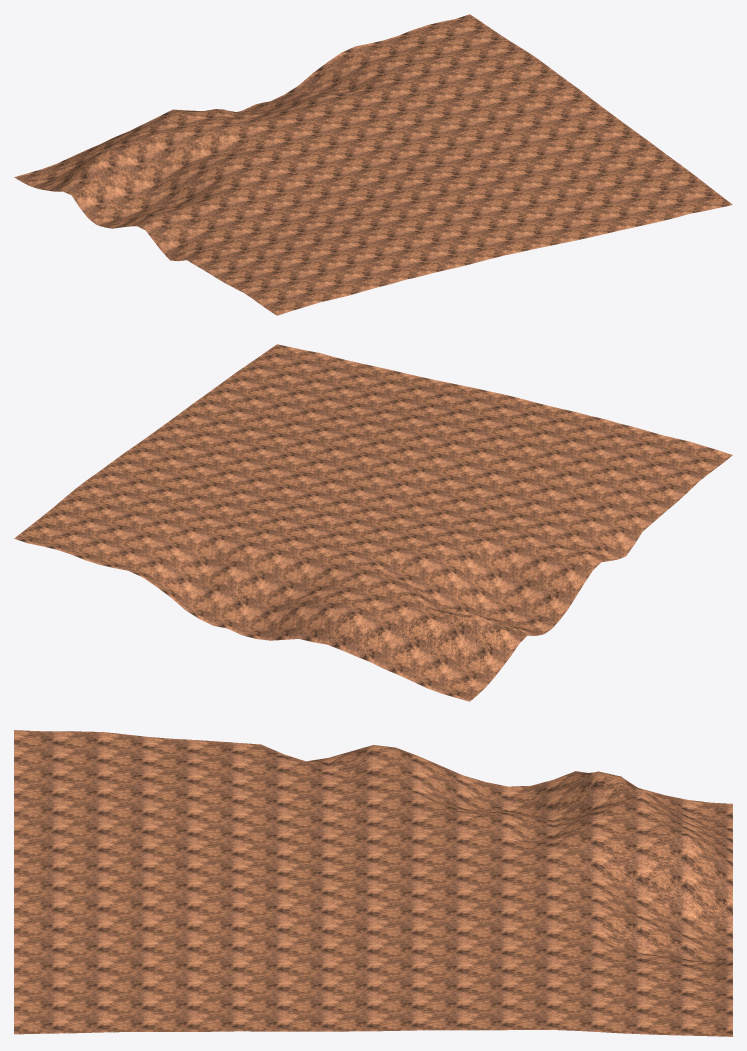
File: terrain_00_10.dae
3 views of the same model, one above another, from view 1: azimuth 30°, elevation 25°; view 2: azimuth 150°, elevation 25°; view 3: azimuth 270°, elevation 25° (orthographic). The views are drawn at different scales.
Visible parts, largest first — view 1: terrain_00_10-node; view 2: terrain_00_10-node; view 3: terrain_00_10-node.
Boxes of the visible parts, x1,y1,x2,y2 form: terrain_00_10-node: (14,14,732,315); terrain_00_10-node: (14,344,732,701); terrain_00_10-node: (14,730,732,1036).
Bounding box in the file's own units: 128 × 128 × 15.99.
Materials: 1 (1 with a texture image).
